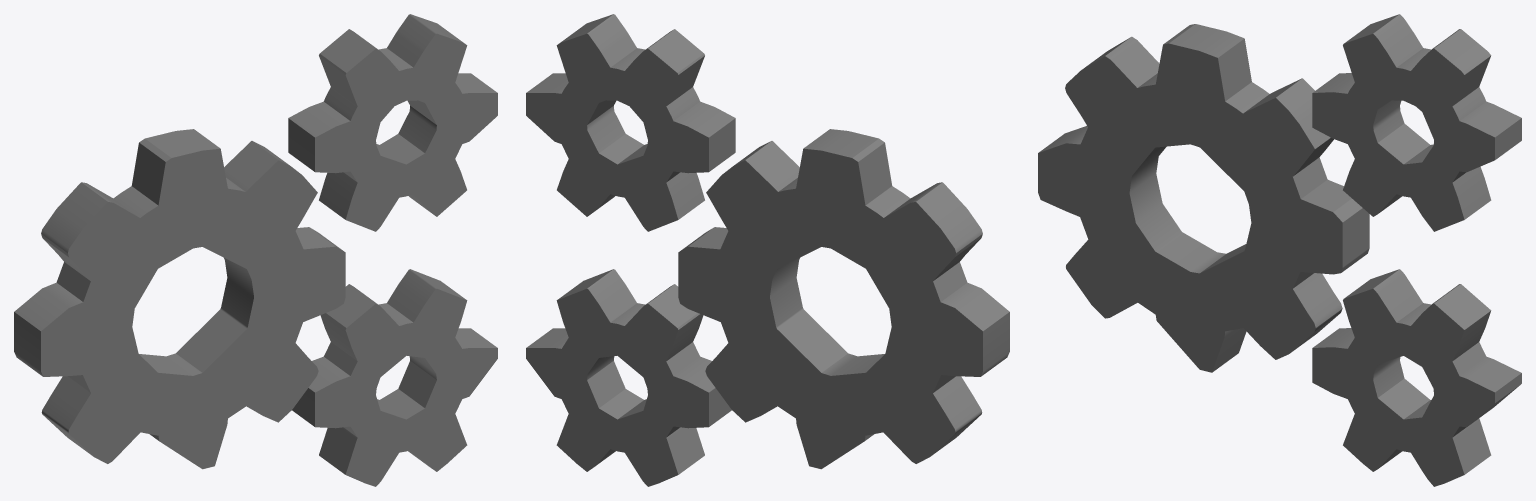
The model's file is fa-cogs.obj.
3 renders of one model, left to right at view 1: azimuth 30°, elevation 25°; view 2: azimuth 150°, elevation 25°; view 3: azimuth 330°, elevation 25°, orthographic.
Bounding box in the file's own units: 1.13 × 1.04 × 0.1152.
1 material, 1 textured.
